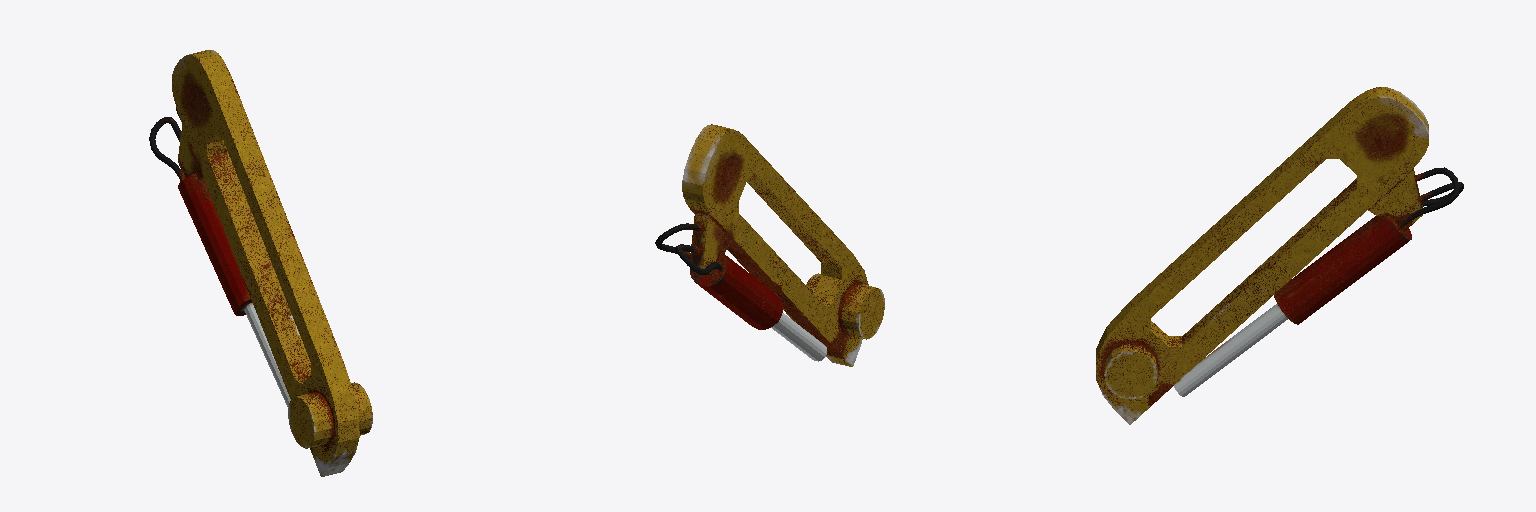
3 renders of one model, left to right at view 1: azimuth 30°, elevation 25°; view 2: azimuth 150°, elevation 25°; view 3: azimuth 270°, elevation 25°, orthographic.
Visible parts, largest first — view 1: Line003; view 2: Line003; view 3: Line003.
Part boxes in pixels (left/top/right/bottom): Line003: left=149, top=50, right=372, bottom=476; Line003: left=655, top=124, right=884, bottom=366; Line003: left=1096, top=87, right=1463, bottom=424.
Bounding box in the file's own units: 0.1732 × 0.9267 × 0.9443.
1 materials, 1 textured.